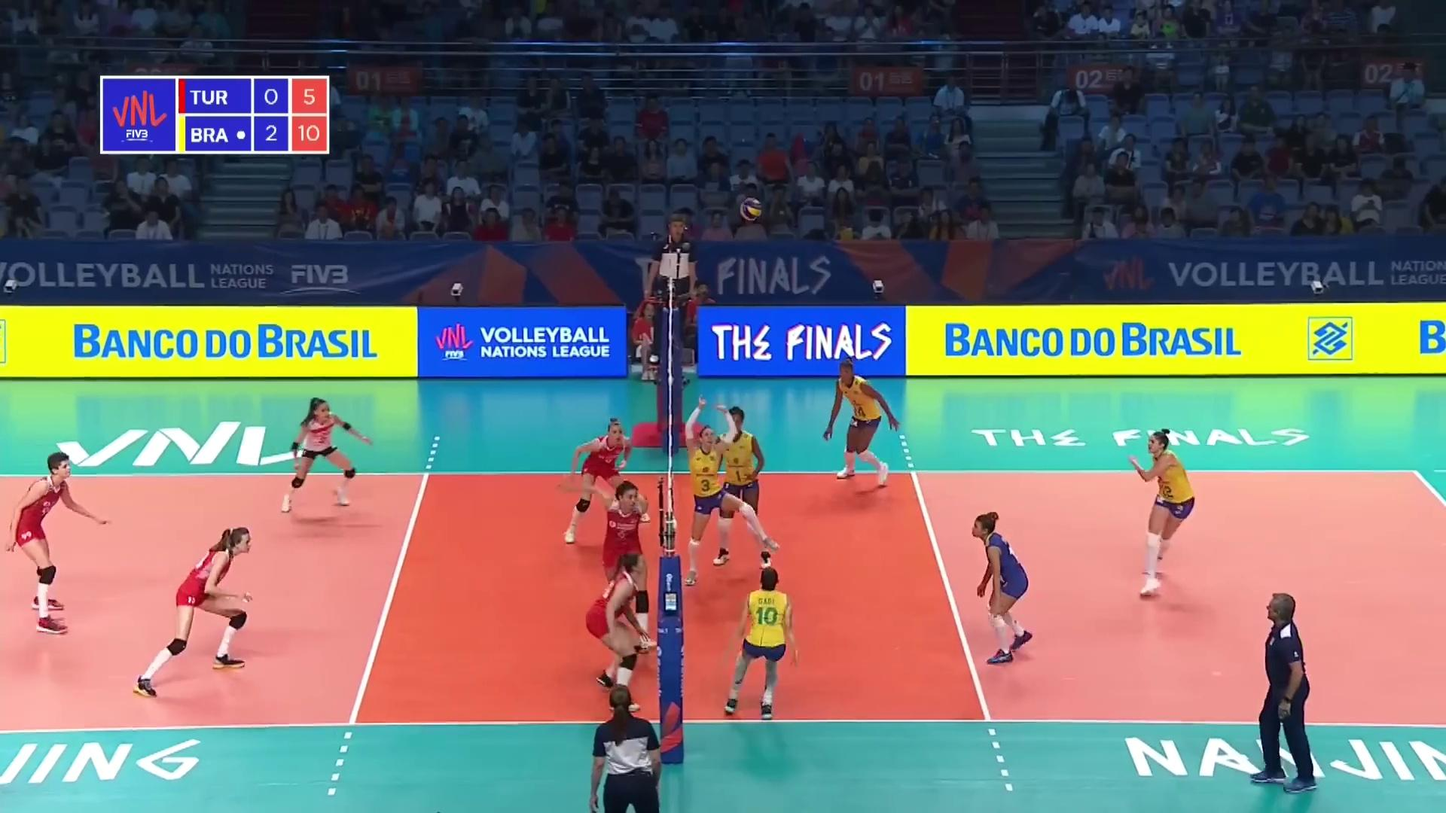player: (129, 528, 255, 704), (1, 451, 117, 633), (683, 405, 774, 585), (1124, 427, 1196, 594), (273, 400, 373, 518), (586, 482, 656, 650), (966, 513, 1037, 662), (713, 405, 776, 572), (565, 418, 645, 545), (821, 364, 896, 496), (586, 557, 655, 700), (734, 572, 801, 717)
refree: (585, 675, 669, 813), (643, 209, 699, 374)
